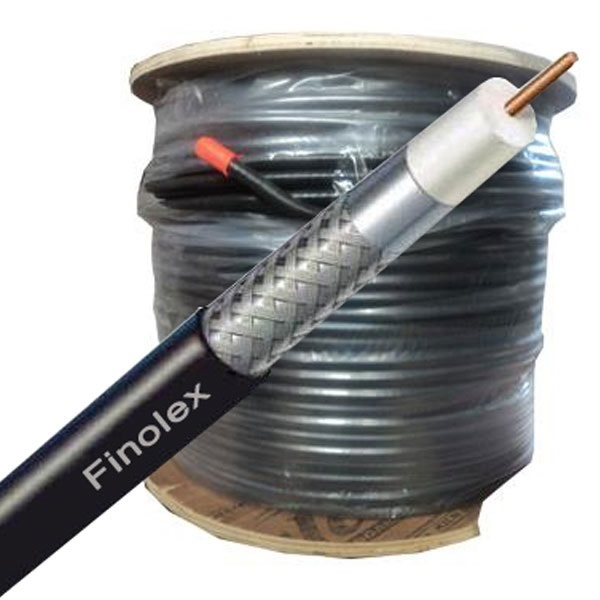Nonrec_Tangler: (64, 33, 582, 546)
